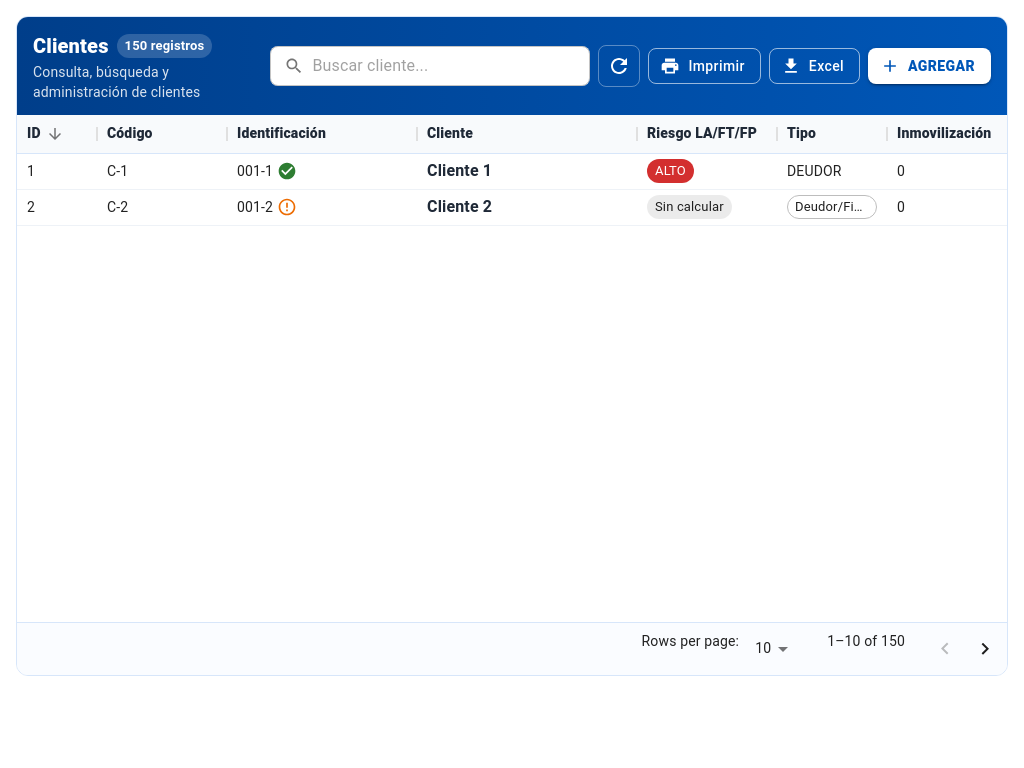
Test: CustomerList: imprimir y Excel (lista paginada en el servidor) › Imprimir traduce riesgo, tipo e inmovilización
Expected: the text "150 registros" is shown, [124,38,204,53]
Click the button "Imprimir".
click(705, 66)  # box [648,48,761,84]
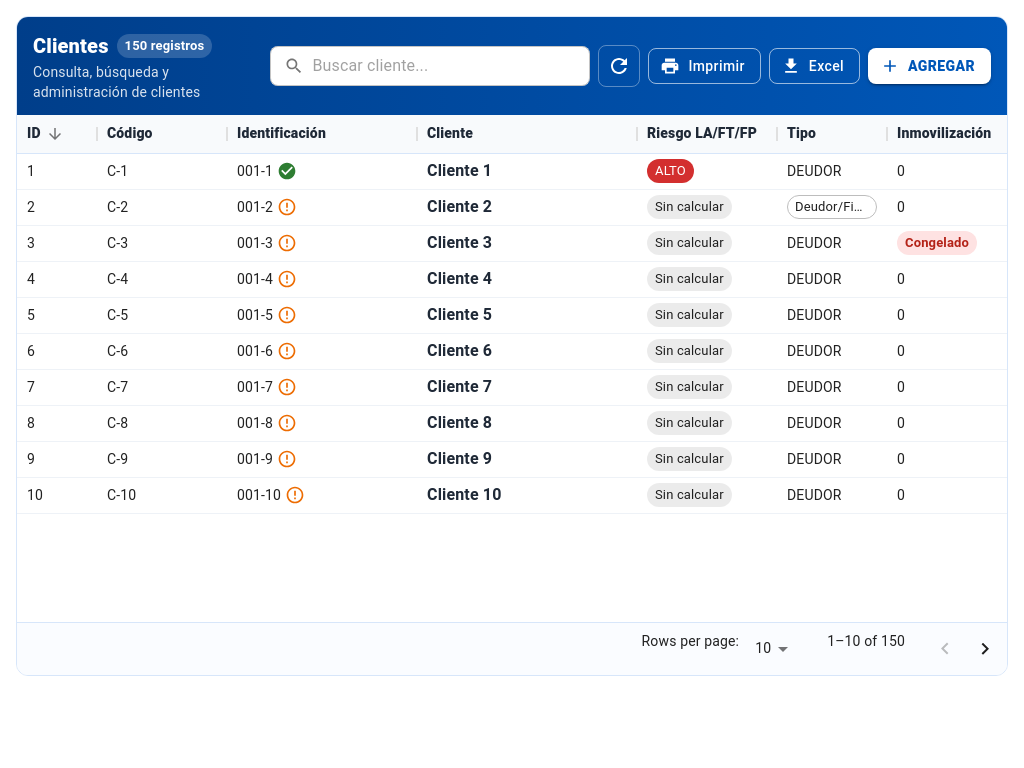
Expected: the text "ALTO" is shown, [655,163,686,178]
Result: the text "Congelado" is shown at [905,235,969,250]
